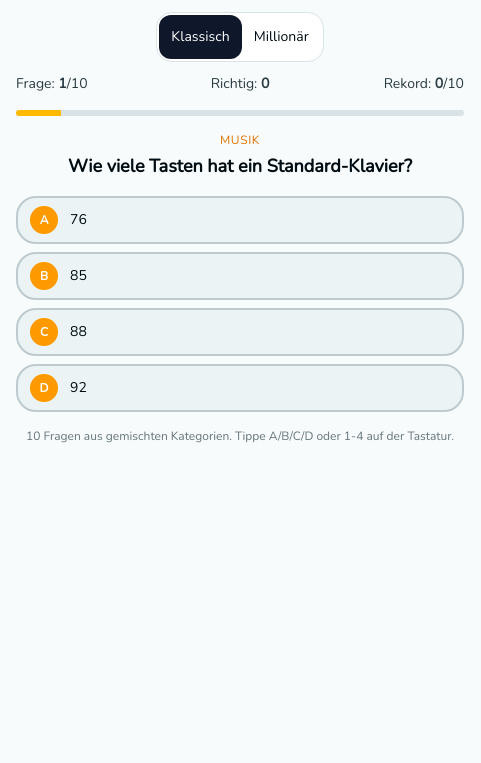
Test: QuizGame › switches to millionaire mode and renders jokers and prize pyramid
Click the button "Millionär" at [281, 37], box [242,15,321,59]
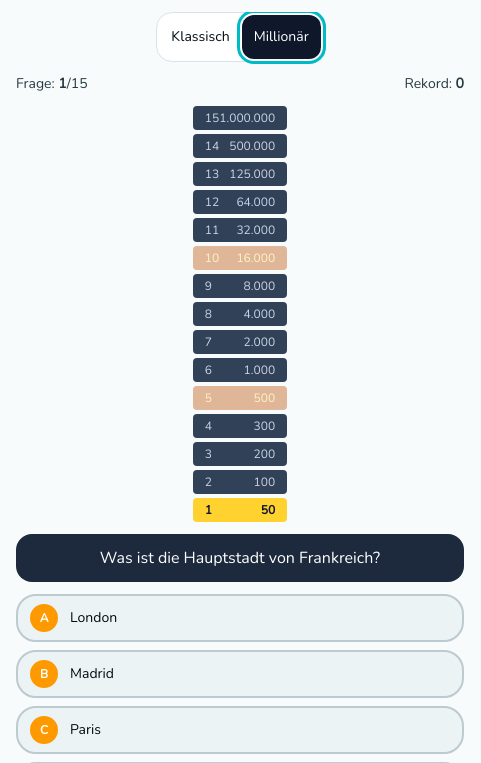
Expected: the element named "Gewinnpyramide" is shown, [193,106,287,522]
